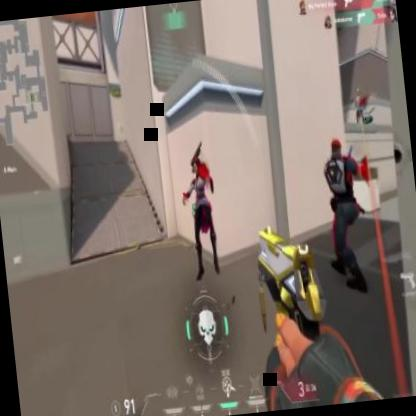enemy: (319, 133, 371, 297)
enemy_head: (329, 136, 343, 160)
